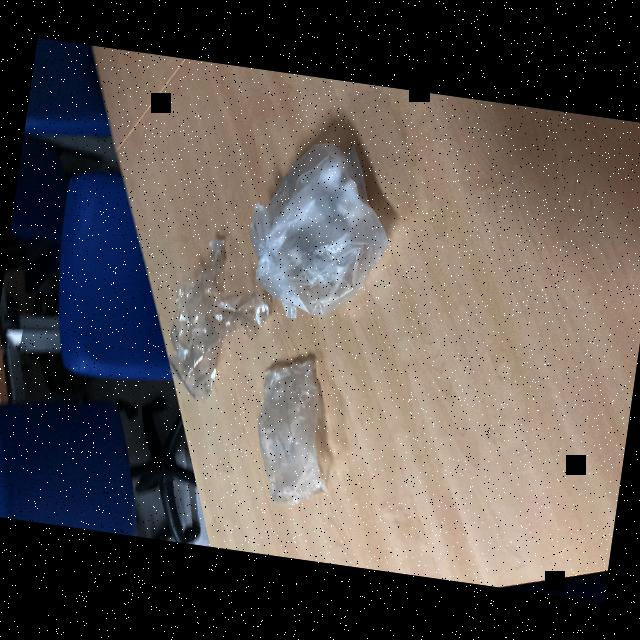plastic_bag: (236, 123, 411, 324), (145, 224, 271, 413), (248, 348, 350, 512)
